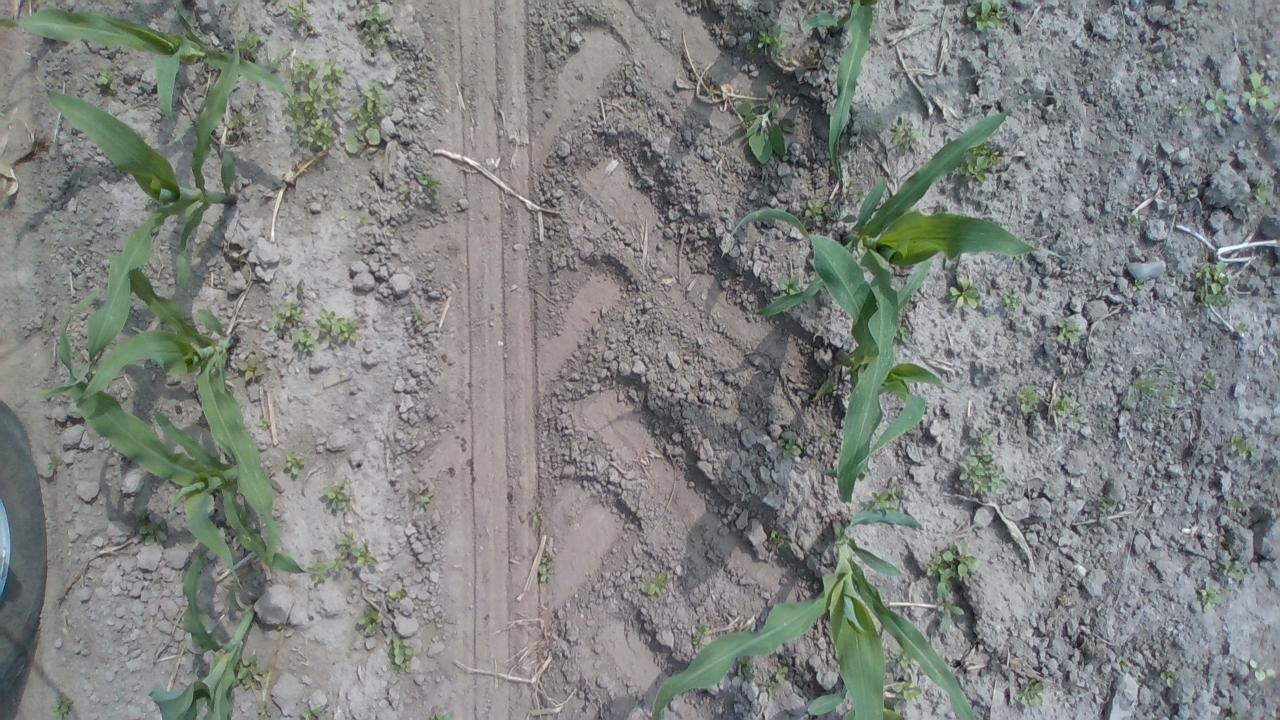Maize: (59, 289, 332, 588), (30, 28, 241, 404), (720, 92, 1059, 322), (650, 505, 981, 720), (729, 207, 954, 508), (78, 241, 280, 566), (0, 0, 293, 122), (146, 541, 256, 720), (800, 0, 877, 191)
Weeds: (285, 54, 346, 152), (926, 540, 980, 632), (271, 302, 360, 354), (734, 94, 798, 165), (345, 81, 393, 156), (1131, 366, 1185, 423), (958, 447, 1008, 494), (954, 140, 1001, 184), (335, 529, 380, 568), (800, 197, 856, 228), (888, 652, 922, 703), (744, 20, 786, 60), (1194, 262, 1229, 309), (965, 0, 1013, 32), (1242, 70, 1276, 112), (361, 2, 394, 45), (234, 653, 272, 690), (130, 509, 168, 546), (890, 117, 924, 156), (318, 476, 353, 513), (1200, 86, 1230, 125), (388, 630, 414, 674), (1014, 680, 1050, 710), (235, 28, 264, 62), (234, 352, 266, 382), (948, 278, 978, 310), (95, 62, 122, 95), (354, 606, 384, 635), (306, 562, 344, 584), (1015, 382, 1040, 415), (869, 486, 899, 513), (1198, 583, 1224, 614), (1053, 395, 1081, 423), (1054, 318, 1082, 346), (640, 572, 670, 598), (1230, 432, 1258, 459), (764, 666, 788, 697), (1246, 178, 1272, 206), (1158, 662, 1184, 688), (765, 526, 791, 552), (286, 0, 318, 21), (769, 274, 802, 294), (812, 414, 834, 444), (417, 175, 443, 200), (1248, 658, 1276, 681), (776, 436, 804, 458), (736, 656, 758, 682), (1219, 559, 1243, 582), (51, 695, 72, 720), (284, 453, 306, 476), (692, 622, 708, 650), (536, 562, 556, 584), (1198, 369, 1218, 390), (227, 111, 246, 131), (416, 487, 434, 508), (978, 423, 994, 446), (1002, 290, 1022, 308), (1170, 103, 1194, 118), (300, 706, 321, 720), (264, 56, 282, 72), (1126, 213, 1148, 226), (862, 119, 884, 132), (209, 214, 226, 230), (1116, 655, 1131, 673), (258, 701, 272, 720), (1096, 495, 1114, 509), (254, 419, 274, 430), (1227, 498, 1242, 512), (528, 510, 542, 524), (430, 712, 454, 720), (389, 590, 408, 600), (1184, 187, 1198, 200), (1224, 542, 1239, 554), (843, 182, 855, 196), (852, 191, 866, 203), (412, 312, 424, 326), (1225, 711, 1241, 720), (45, 457, 56, 470), (1235, 323, 1248, 333), (1134, 278, 1145, 289), (277, 624, 289, 634)
